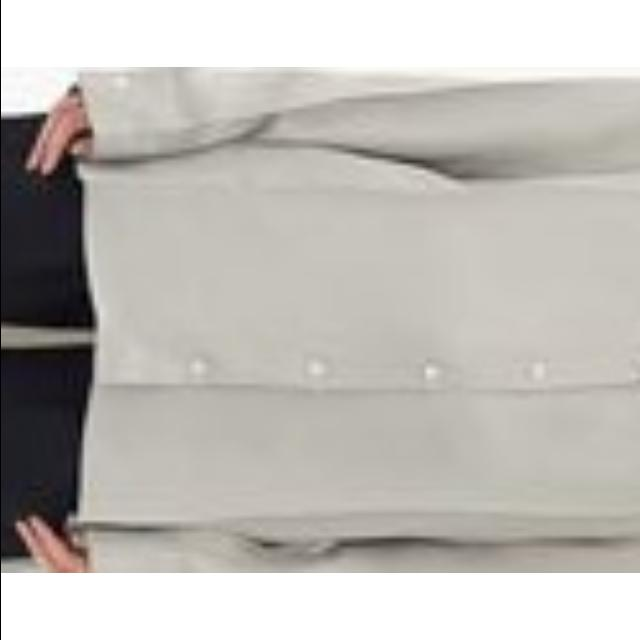wool: (66, 67, 640, 573)
